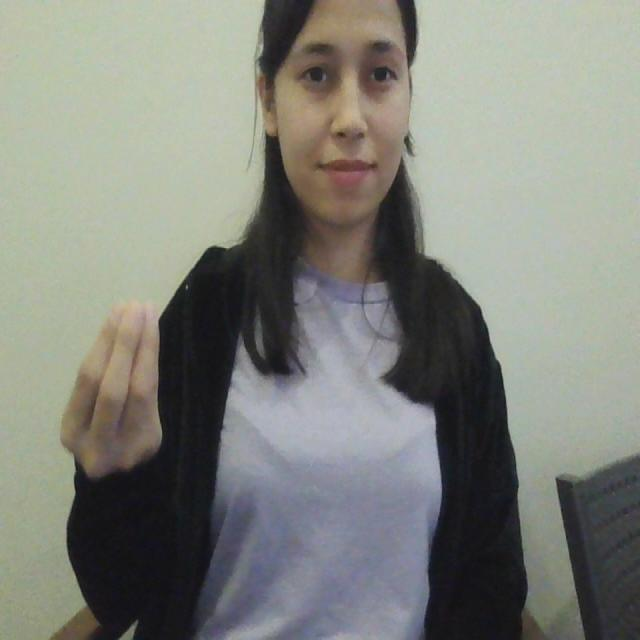iyi: (57, 293, 171, 490)
